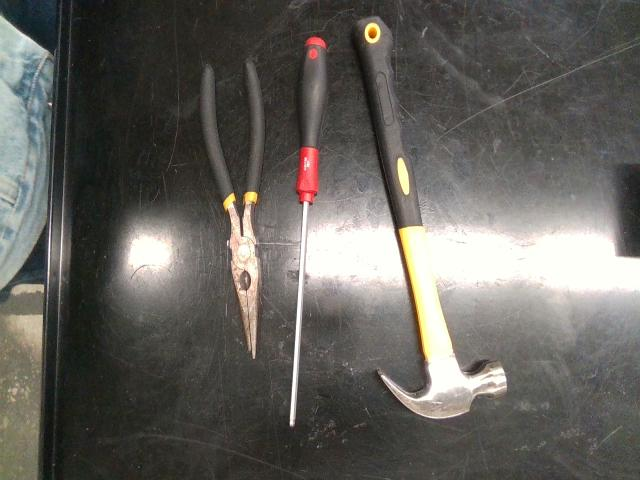Hammer: (354, 17, 506, 418)
Needle-nose pliers: (200, 58, 265, 358)
Screwdriver: (290, 37, 329, 426)
